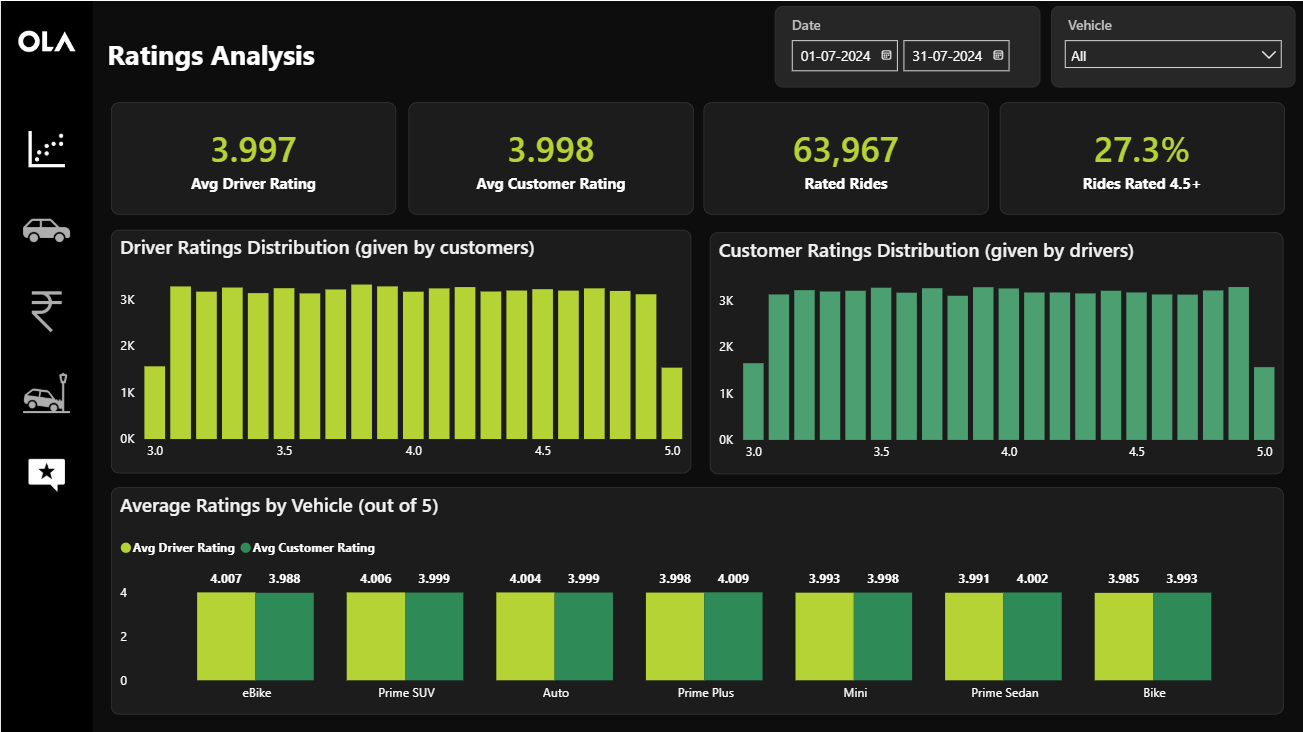

The dashboard page shown, as its layout file describes it:
{"tool":"powerbi","page":{"name":"Ratings","canvas":[1280,720],"ordinal":4},"visuals":[{"type":"group","id":"g1","title":"Group 1","box":[0,0,90,720],"z":0},{"type":"shape","box":[0,0,90,720],"z":0,"group":"g1"},{"type":"slicer","fields":{"Values":["ola_rides.Ride_Date"]},"box":[759.6,5.1,260.4,80],"z":1000},{"type":"image","box":[10,25,70,30],"z":1000,"group":"g1"},{"type":"slicer","fields":{"Values":["ola_rides.Vehicle_Type"]},"box":[1030.3,5.1,240,80],"z":1001},{"type":"textbox","box":[100,30,600,45],"z":1002},{"type":"cardVisual","fields":{"Data":["_Measures.Avg Driver Rating"]},"box":[108.5,99.6,280,110],"z":1003},{"type":"cardVisual","fields":{"Data":["_Measures.Avg Customer Rating"]},"box":[399.6,99.6,280,110],"z":1004},{"type":"cardVisual","fields":{"Data":["_Measures.High Rated %"]},"box":[980.5,99.6,280,110],"z":1005},{"type":"cardVisual","fields":{"Data":["_Measures.Completed Rides Label"]},"box":[689.4,99.6,280,110],"z":1006},{"type":"clusteredColumnChart","title":"Driver Ratings Distribution (given by customers)","fields":{"Category":["ola_rides.Driver_Ratings"],"Y":["_Measures.Completed Rides"]},"box":[108.6,225.1,569.9,239.5],"z":1007},{"type":"clusteredColumnChart","title":"Customer Ratings Distribution (given by drivers)","fields":{"Y":["_Measures.Completed Rides"],"Category":["ola_rides.Customer_Rating"]},"box":[696,226.7,563.5,237.9],"z":1008},{"type":"clusteredColumnChart","title":"Average Ratings by Vehicle (out of 5)","fields":{"Category":["ola_rides.Vehicle_Type"],"Y":["_Measures.Avg Driver Rating","_Measures.Avg Customer Rating"]},"box":[108.6,477.3,1151,223.5],"z":1009},{"type":"image","box":[20,120,50,50],"z":2000,"group":"g1"},{"type":"image","box":[20,200,50,50],"z":3000,"group":"g1"},{"type":"image","box":[20,280,50,50],"z":4000,"group":"g1"},{"type":"image","box":[20,360,50,50],"z":5000,"group":"g1"},{"type":"image","box":[20,440,50,50],"z":6000,"group":"g1"}]}

Visuals, with their boxes in screenshot pixels (x1, y1, x2, y2), scaled from the page's 1280x720 canvas onto the 1303x732 screenshot:
"Group 1" group: l=0, t=0, r=92, b=731
shape: l=0, t=0, r=92, b=731
slicer - ola_rides.Ride_Date: l=773, t=5, r=1038, b=87
image: l=10, t=25, r=81, b=56
slicer - ola_rides.Vehicle_Type: l=1049, t=5, r=1293, b=87
textbox: l=102, t=30, r=713, b=76
cardVisual - _Measures.Avg Driver Rating: l=110, t=101, r=395, b=213
cardVisual - _Measures.Avg Customer Rating: l=407, t=101, r=692, b=213
cardVisual - _Measures.High Rated %: l=998, t=101, r=1283, b=213
cardVisual - _Measures.Completed Rides Label: l=702, t=101, r=987, b=213
"Driver Ratings Distribution (given by customers)" clusteredColumnChart: l=111, t=229, r=691, b=472
"Customer Ratings Distribution (given by drivers)" clusteredColumnChart: l=709, t=230, r=1282, b=472
"Average Ratings by Vehicle (out of 5)" clusteredColumnChart: l=111, t=485, r=1282, b=712
image: l=20, t=122, r=71, b=173
image: l=20, t=203, r=71, b=254
image: l=20, t=285, r=71, b=336
image: l=20, t=366, r=71, b=417
image: l=20, t=447, r=71, b=498
